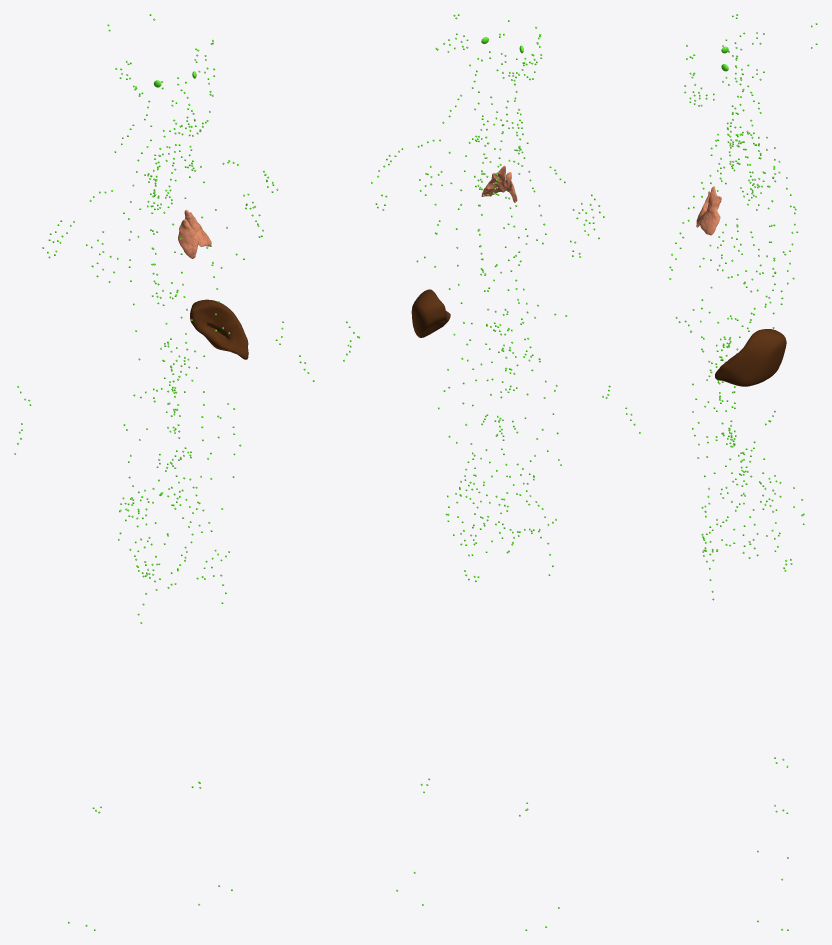
File: lymphoid-organs.glb
3 views of the same model, side by side, from view 1: azimuth 30°, elevation 25°; view 2: azimuth 150°, elevation 25°; view 3: azimuth 270°, elevation 25° (orthographic).
Parts seen in each view (by area): view 1: Spleen; view 2: Spleen; view 3: Spleen, Left lobe of thymus.
Part boxes in pixels (left/top/right/bottom): Spleen: left=190, top=299, right=248, bottom=359; Spleen: left=411, top=289, right=450, bottom=337; Spleen: left=715, top=329, right=786, bottom=386; Left lobe of thymus: left=699, top=186, right=721, bottom=235.
Bounding box in the file's own units: 0.4523 × 1.28 × 0.1963.
